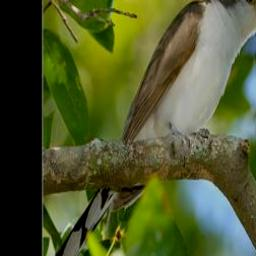Cuckoo: (42, 0, 256, 256)
